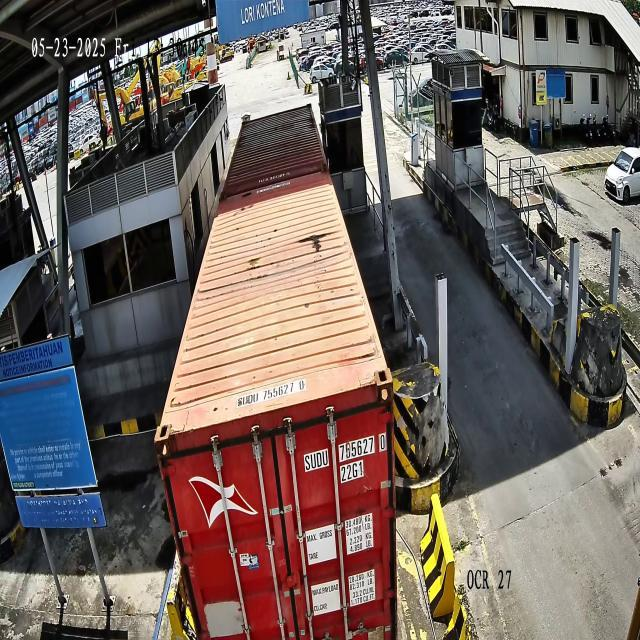ISO: (341, 462, 364, 484)
container_number: (303, 432, 387, 472)
